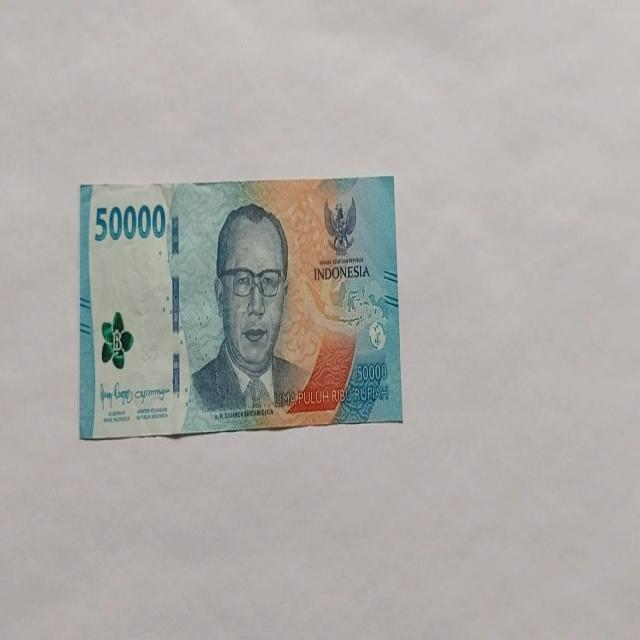lima puluh ribu rupiah: (78, 175, 402, 440), (184, 202, 311, 422)
